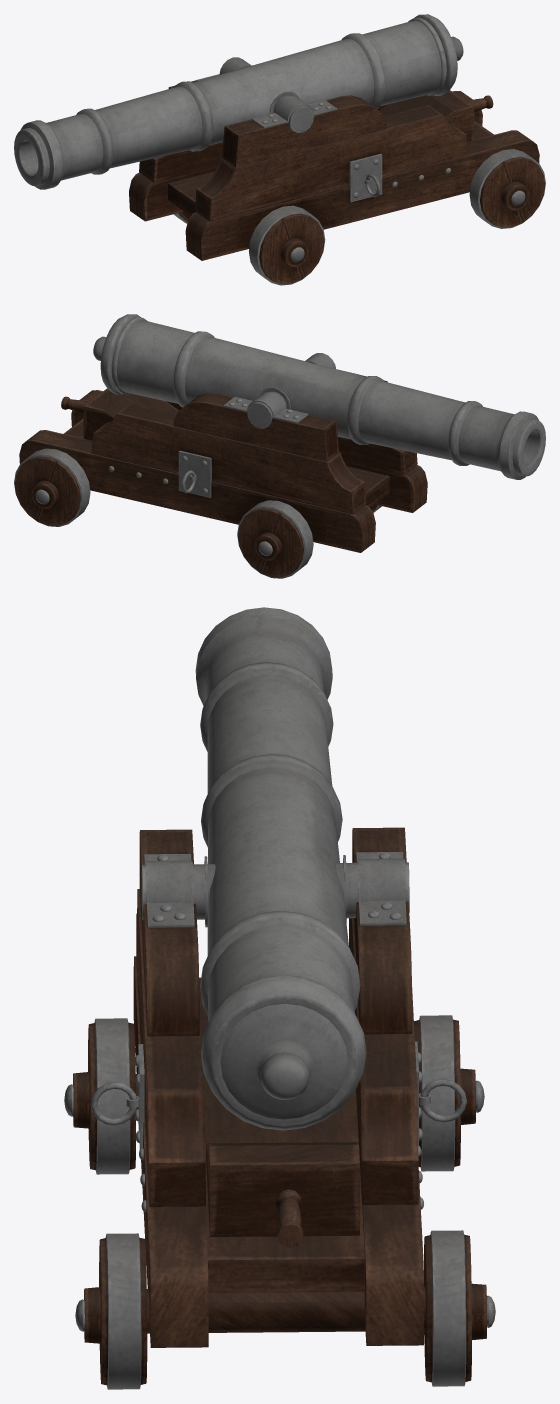
The model's file is cannon.glb.
3 views of the same model, one above another, from view 1: azimuth 30°, elevation 25°; view 2: azimuth 150°, elevation 25°; view 3: azimuth 270°, elevation 25° (orthographic). The views are drawn at different scales.
Parts seen in each view (by area): view 1: korpus, cannon, koleso, detal, kolco, kreplenie; view 2: korpus, cannon, koleso, detal, kolco, kreplenie; view 3: cannon, korpus, koleso, detal, kreplenie, kolco, boltiki.
Boxes of the visible parts, box(x1,y1,x2,y2) form: korpus: box(129, 80, 539, 260); cannon: box(14, 14, 463, 189); koleso: box(174, 149, 545, 285); detal: box(379, 90, 493, 141); kolco: box(349, 153, 382, 202); kreplenie: box(196, 57, 337, 128); korpus: box(19, 375, 427, 552); cannon: box(93, 314, 545, 479); koleso: box(14, 448, 381, 578); detal: box(61, 388, 178, 440); kolco: box(178, 450, 211, 497); kreplenie: box(223, 353, 359, 423); cannon: box(141, 607, 409, 1130); korpus: box(133, 827, 424, 1347); koleso: box(64, 1015, 495, 1389); detal: box(206, 1142, 359, 1247); kreplenie: box(144, 852, 406, 927); kolco: box(90, 1041, 466, 1149); boltiki: box(134, 852, 423, 1211).
Size of the model in its own units: 80.02 by 29.61 by 31.36.
Materials: 1 (1 with a texture image).
